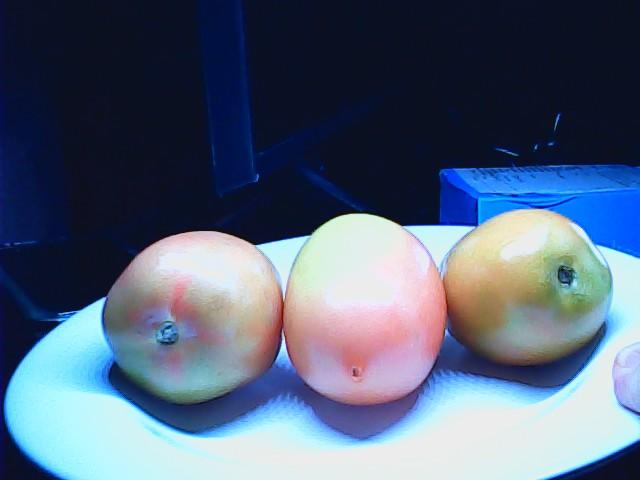verde: (100, 230, 281, 409), (282, 211, 446, 403), (443, 210, 613, 372)
